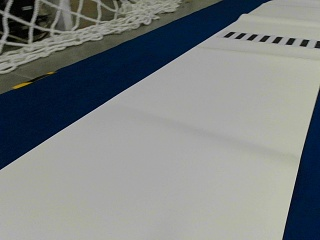crosswalk: (223, 30, 318, 48)
